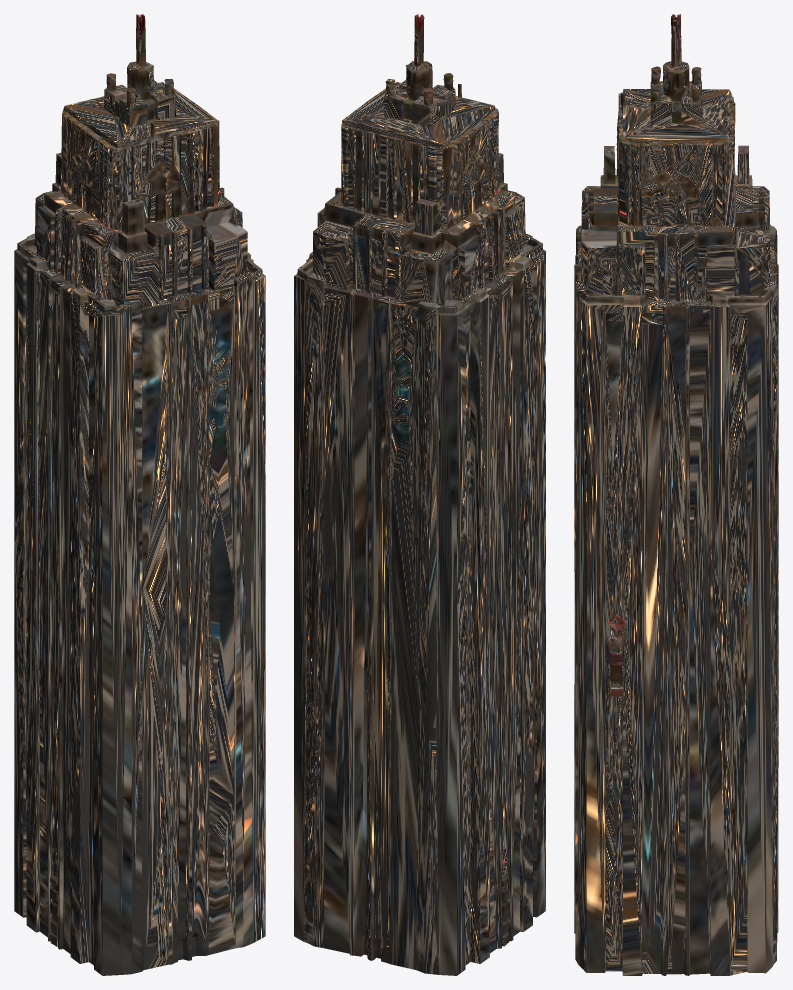
File: r02_far.glb
3 renders of one model, left to right at view 1: azimuth 30°, elevation 25°; view 2: azimuth 150°, elevation 25°; view 3: azimuth 270°, elevation 25°, orthographic.
Parts seen in each view (by area): view 1: r02_far; view 2: r02_far; view 3: r02_far.
Boxes of the visible parts, box(x1,y1,x2,y2) form: r02_far: box(14, 14, 265, 975); r02_far: box(294, 14, 545, 975); r02_far: box(574, 14, 778, 975).
Size of the model in its own units: 44.21 by 216 by 43.54.
Materials: 1 (1 with a texture image).
